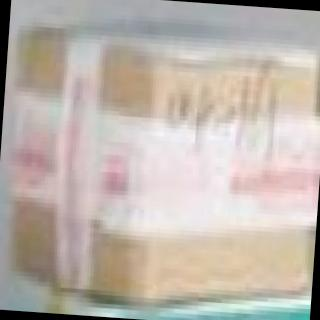package: (0, 12, 320, 314)
